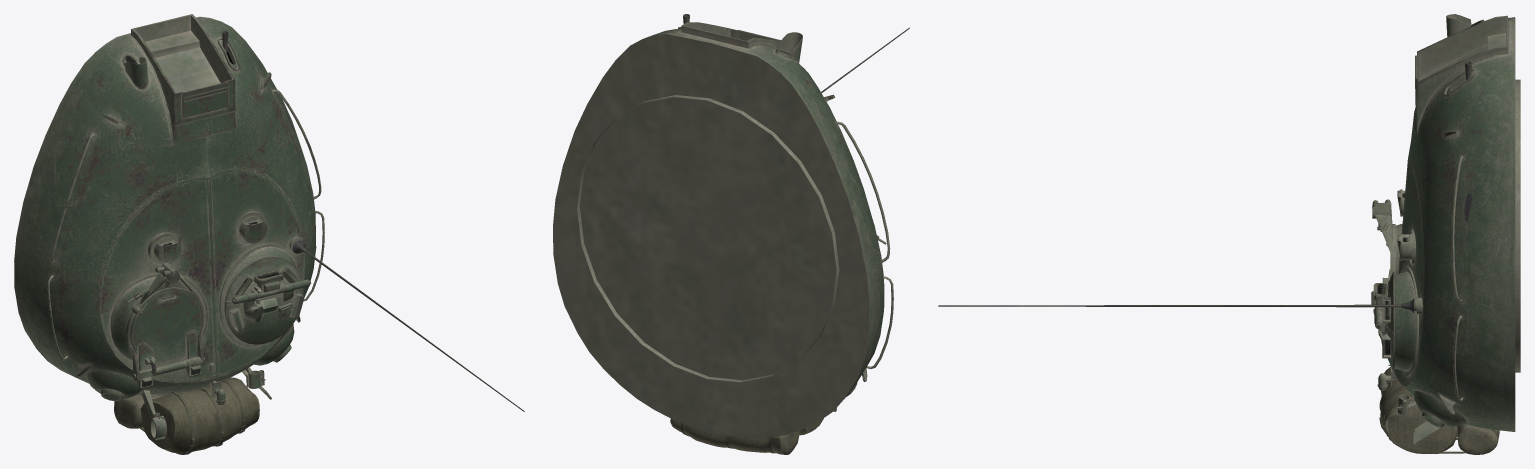
Rendered from Turret_01.glb.
3 renders of one model, left to right at view 1: azimuth 30°, elevation 25°; view 2: azimuth 150°, elevation 25°; view 3: azimuth 270°, elevation 25°, orthographic. The views are drawn at different scales.
Visible parts, largest first — view 1: set_0_group_0; view 2: set_0_group_0; view 3: set_0_group_0.
Part boxes in pixels (left/top/right/bottom): set_0_group_0: left=14, top=14, right=524, bottom=454; set_0_group_0: left=553, top=14, right=909, bottom=454; set_0_group_0: left=938, top=14, right=1520, bottom=454.
Size of the model in its own units: 2.18 by 2.82 by 3.62.
Materials: 1 (1 with a texture image).
